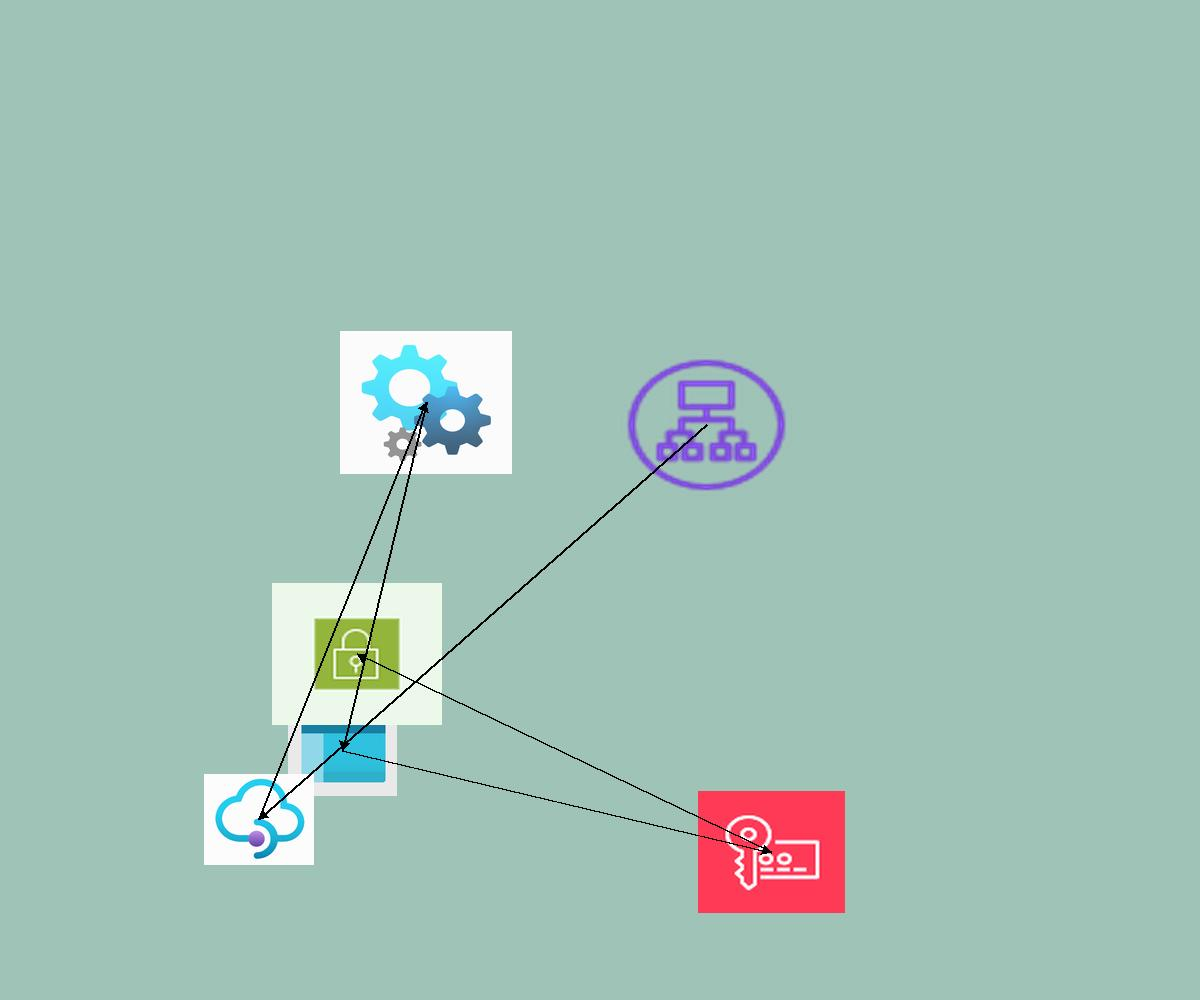AWS-Key-Management-Service: (698, 791, 845, 913)
AWS-Public-subnet: (272, 583, 442, 725)
AWS-Res_Elastic-Load-Balancing_Application-Load-Balancer: (621, 354, 792, 496)
Azure_api: (340, 331, 512, 474)
Azure_api_gateway: (204, 774, 314, 865)
Azure_management-portal: (288, 705, 397, 796)
